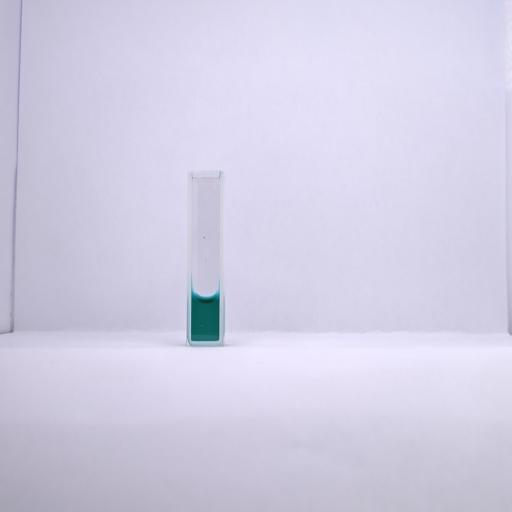cuvette: (186, 169, 226, 348)
liquid: (192, 295, 219, 341)
